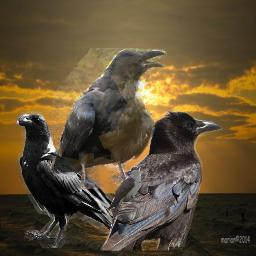Crow: (100, 110, 223, 251), (49, 48, 167, 189), (13, 111, 120, 248)
Cuckoo: (107, 166, 141, 232)
